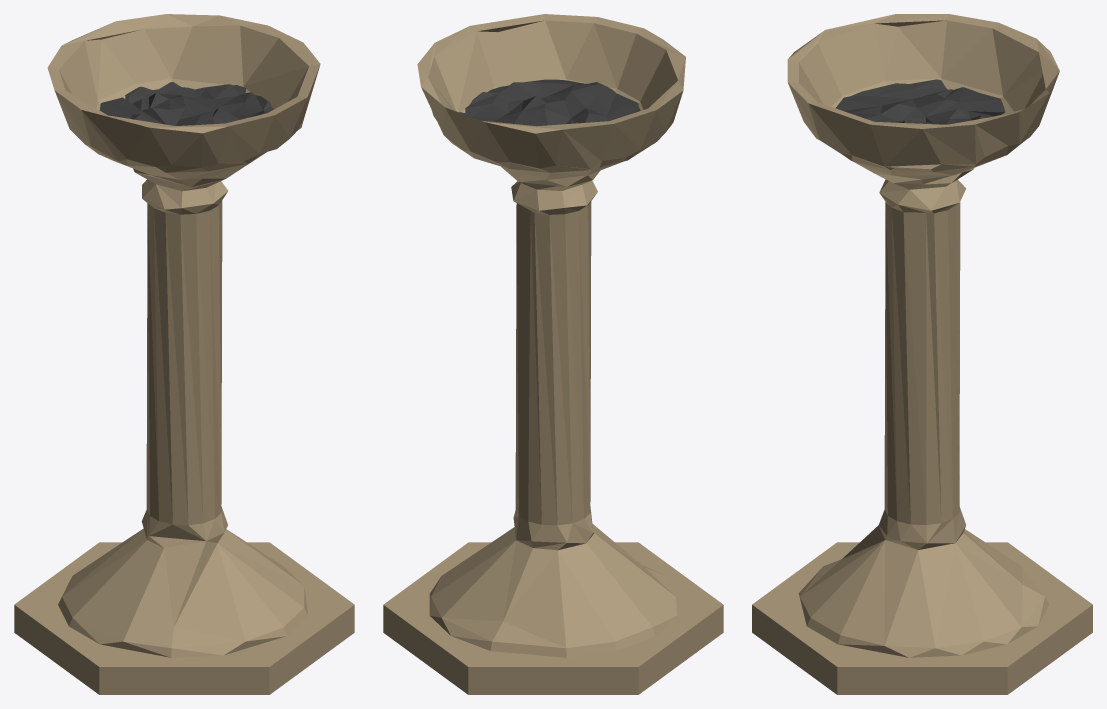
Rendered from column-torch.lod1.glb.
3 views of the same model, side by side, from view 1: azimuth 30°, elevation 25°; view 2: azimuth 150°, elevation 25°; view 3: azimuth 270°, elevation 25° (orthographic).
Visible parts, largest first — view 1: Cylinder_Material.001_0; view 2: Cylinder_Material.001_0; view 3: Cylinder_Material.001_0.
Boxes of the visible parts, bbox=[...] form: Cylinder_Material.001_0: bbox=[14, 14, 354, 694]; Cylinder_Material.001_0: bbox=[383, 14, 723, 694]; Cylinder_Material.001_0: bbox=[752, 14, 1092, 694].
Size of the model in its own units: 1.05 by 2.2 by 1.21.
